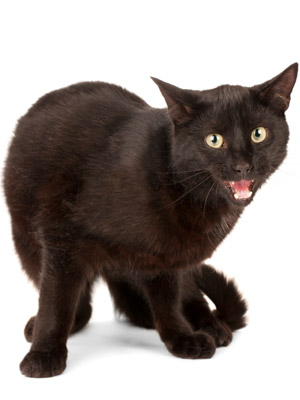Cat: (4, 66, 300, 375)
